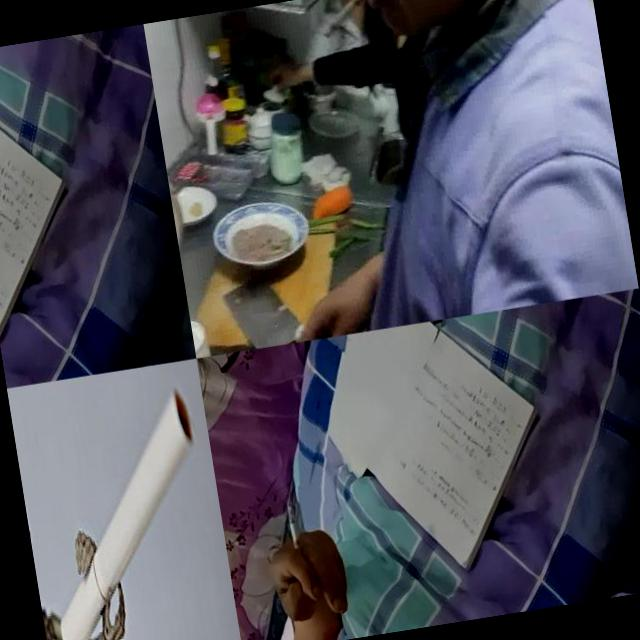cigarette: (25, 382, 227, 640), (318, 0, 378, 39), (284, 500, 302, 562)
